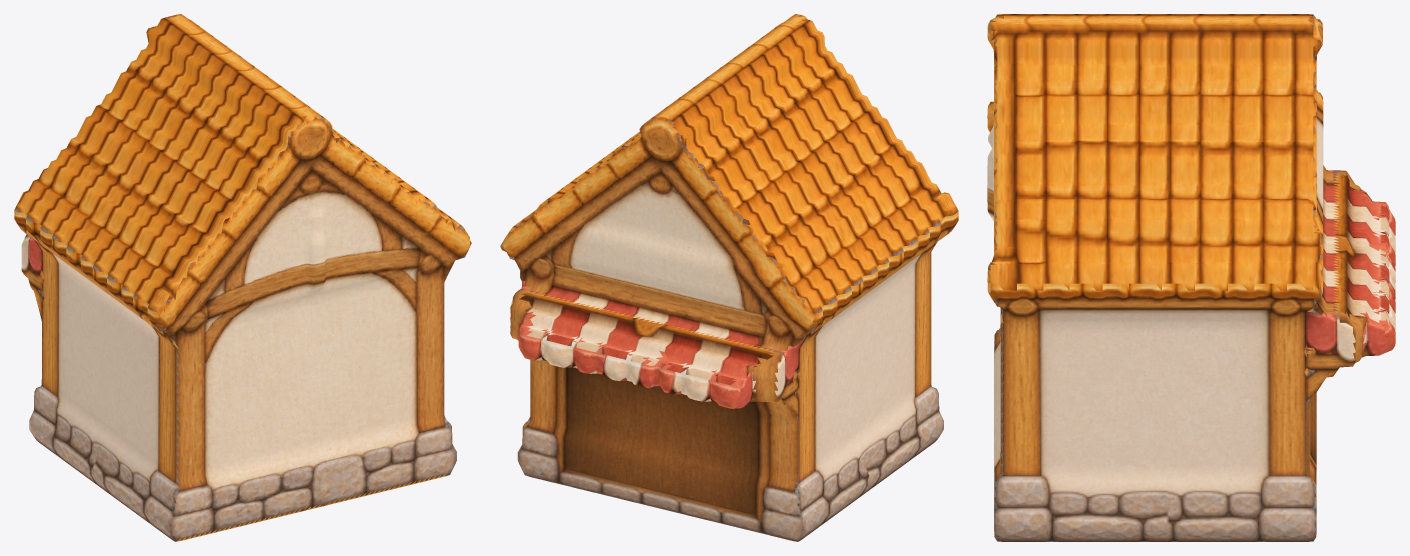
File: bakery-shell.glb
The picture shows the model from 3 angles, left to right: view 1: azimuth 30°, elevation 25°; view 2: azimuth 150°, elevation 25°; view 3: azimuth 270°, elevation 25°; orthographic projection. The views are drawn at different scales.
Bounding box in the file's own units: 0.8505 × 1 × 0.8299.
1 material, 1 textured.
